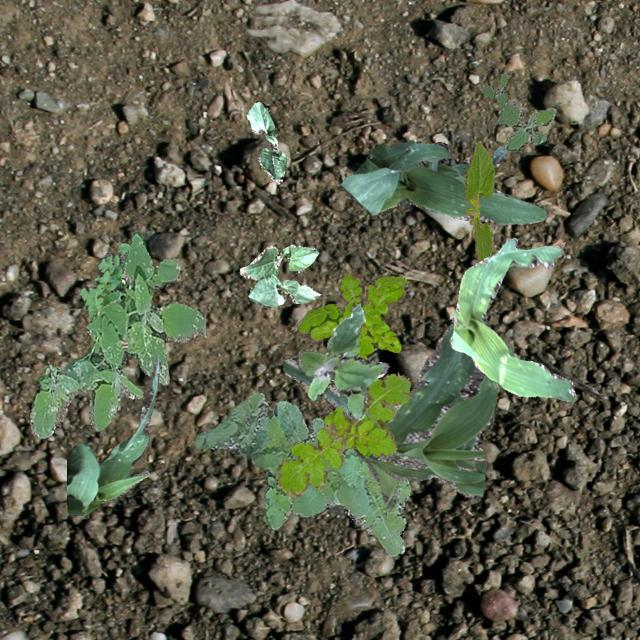crop: (282, 312, 496, 508), (448, 237, 574, 400), (338, 140, 546, 223), (66, 358, 160, 514), (464, 140, 494, 260), (246, 100, 286, 182), (238, 244, 318, 278), (248, 274, 320, 306)
weed: (29, 230, 206, 438), (193, 392, 410, 554), (276, 372, 409, 496), (298, 302, 388, 420), (296, 272, 404, 358), (79, 242, 151, 321), (496, 98, 556, 150), (478, 72, 508, 105)
